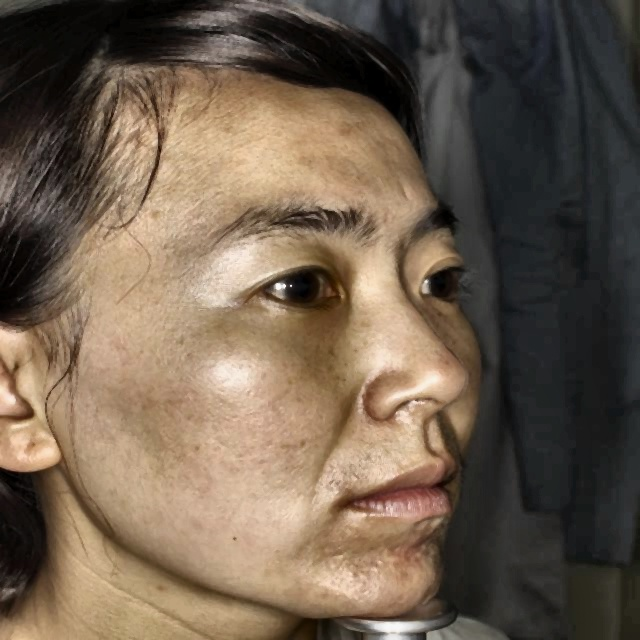comedone: (380, 553, 420, 581), (399, 522, 432, 550)
